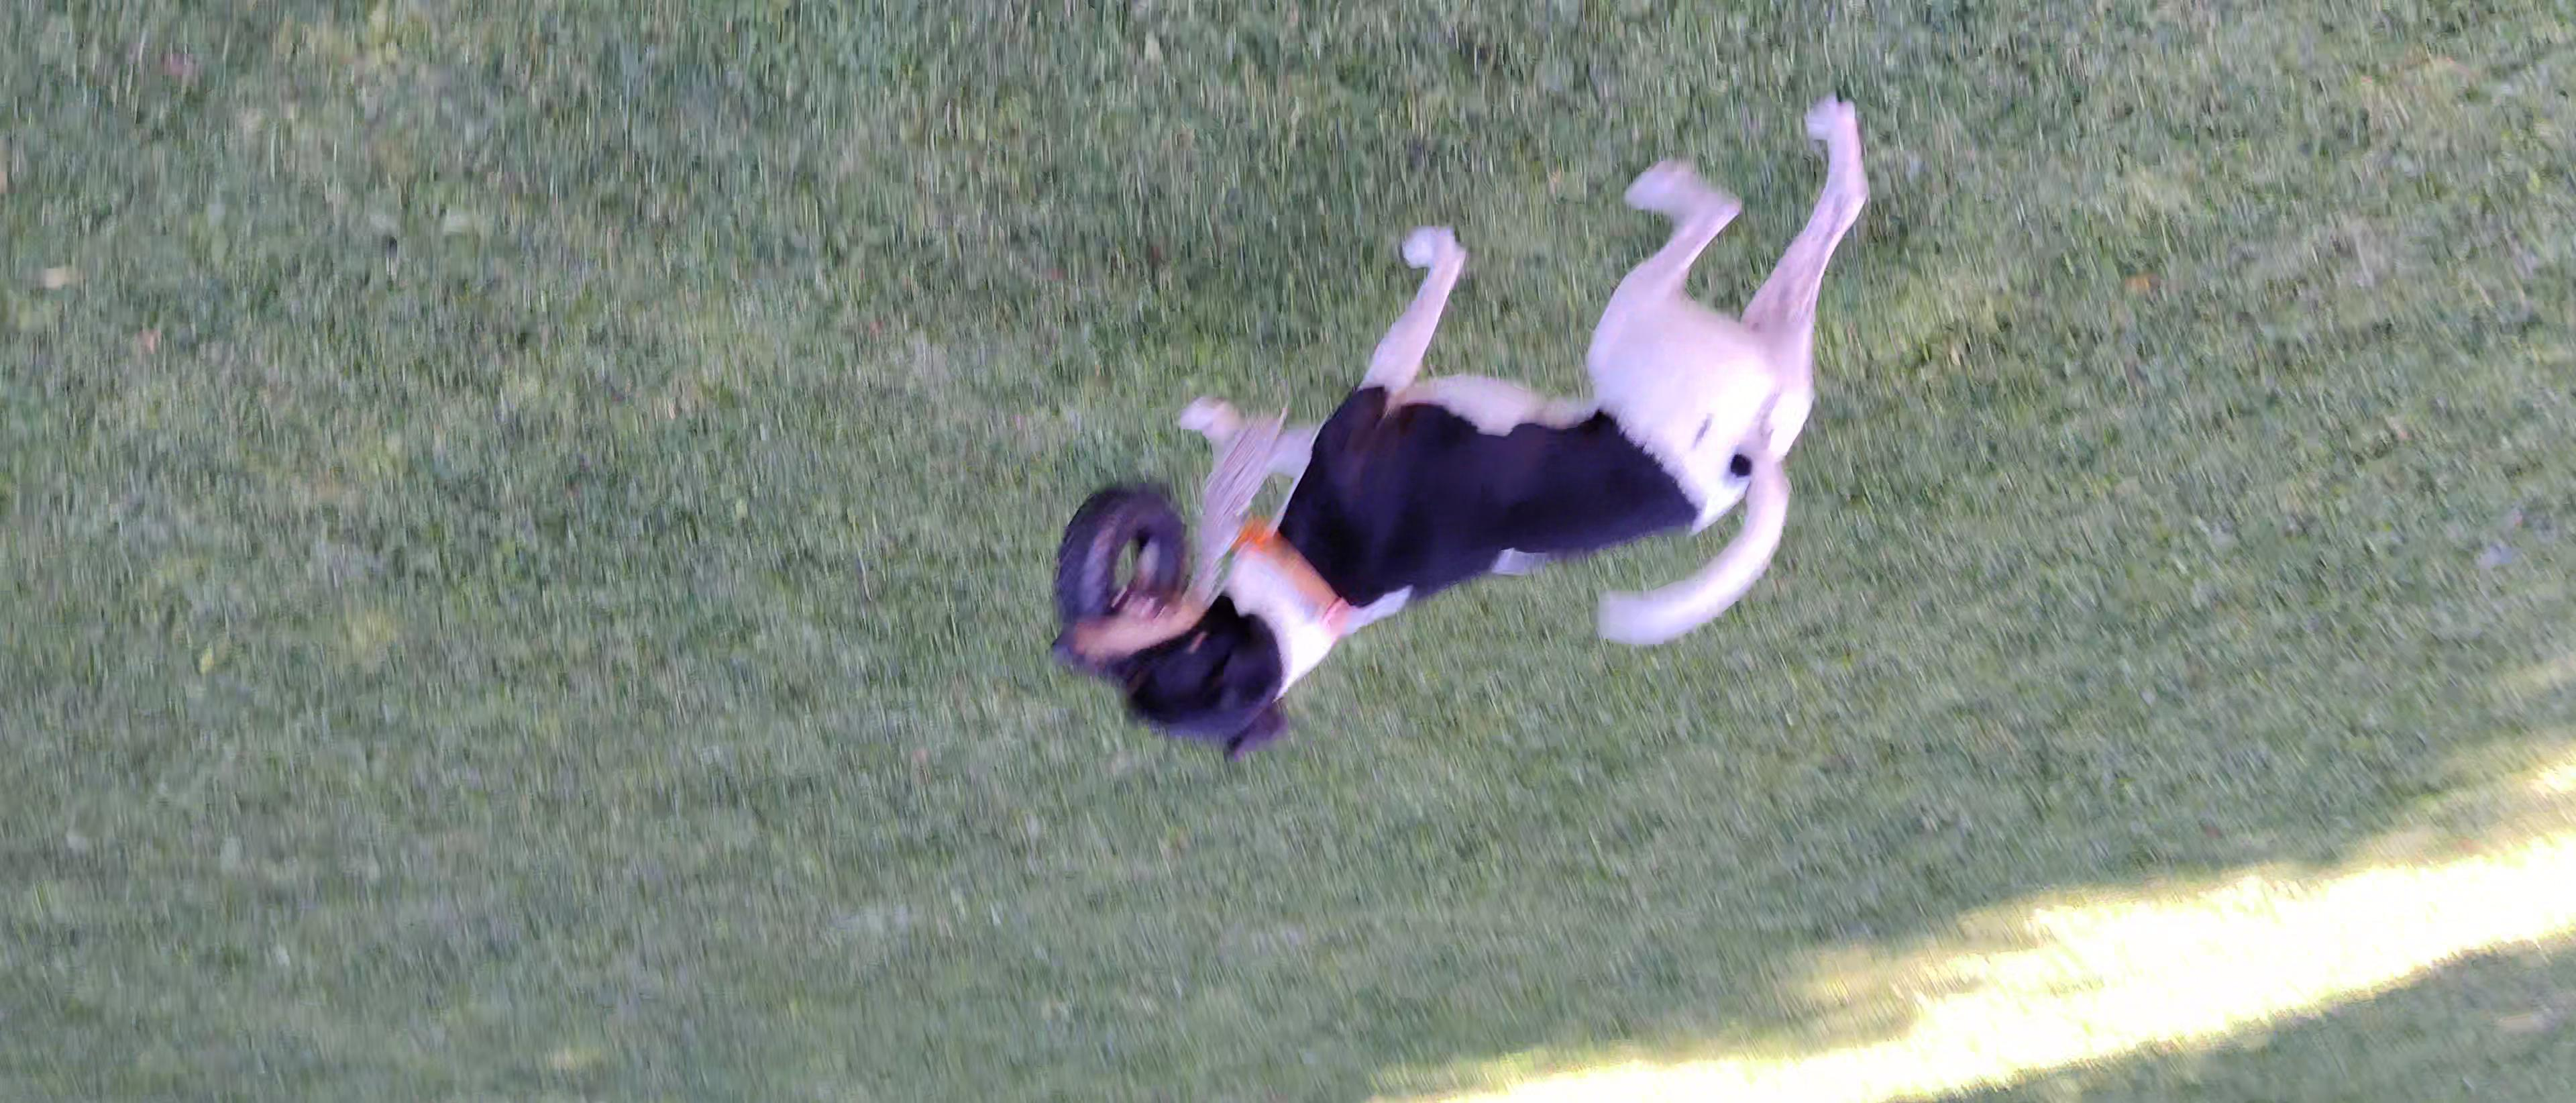Dog: (1048, 85, 1879, 764)
